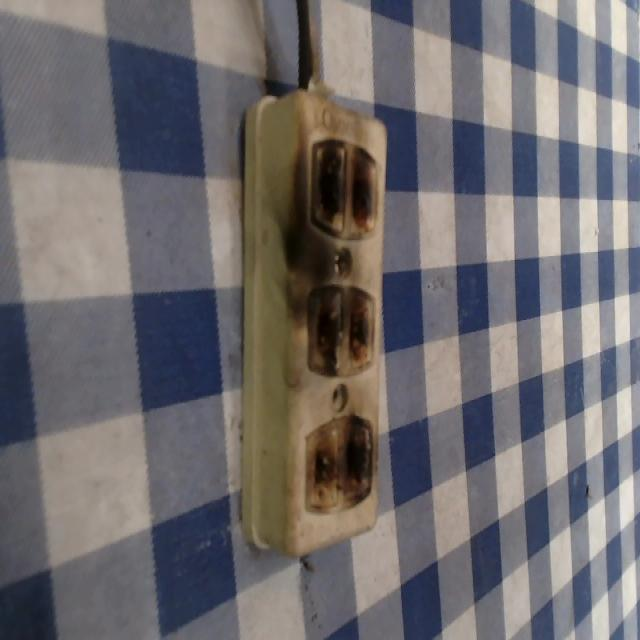-: (307, 133, 381, 243), (300, 411, 376, 518), (304, 278, 378, 378)
